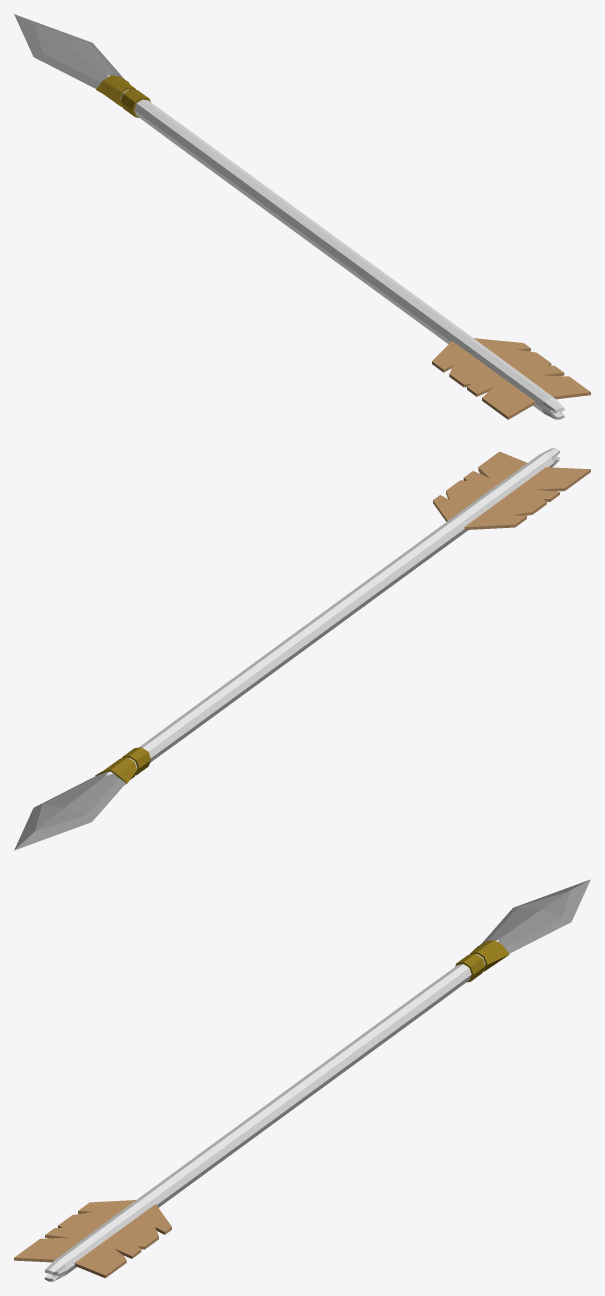
File: BowArrow.fbx
3 renders of one model, top to bottom at view 1: azimuth 30°, elevation 25°; view 2: azimuth 150°, elevation 25°; view 3: azimuth 330°, elevation 25°, orthographic.
Visible parts, largest first — view 1: Plane.002, Plane, Plane.001, Plane.003; view 2: Plane.002, Plane, Plane.001, Plane.003; view 3: Plane.002, Plane, Plane.001, Plane.003.
Boxes of the visible parts, x1=… form: Plane.002: x1=107, y1=75, x2=564, y2=419; Plane: x1=432, y1=338, x2=590, y2=419; Plane.001: x1=14, y1=14, x2=124, y2=88; Plane.003: x1=96, y1=75, x2=150, y2=117; Plane.002: x1=106, y1=448, x2=559, y2=775; Plane: x1=433, y1=451, x2=590, y2=529; Plane.001: x1=14, y1=772, x2=125, y2=850; Plane.003: x1=95, y1=747, x2=150, y2=784; Plane.002: x1=45, y1=939, x2=498, y2=1281; Plane: x1=14, y1=1200, x2=171, y2=1278; Plane.001: x1=481, y1=879, x2=590, y2=953; Plane.003: x1=455, y1=940, x2=509, y2=982.
Bounding box in the file's own units: 5.43 × 1.24 × 58.74.
